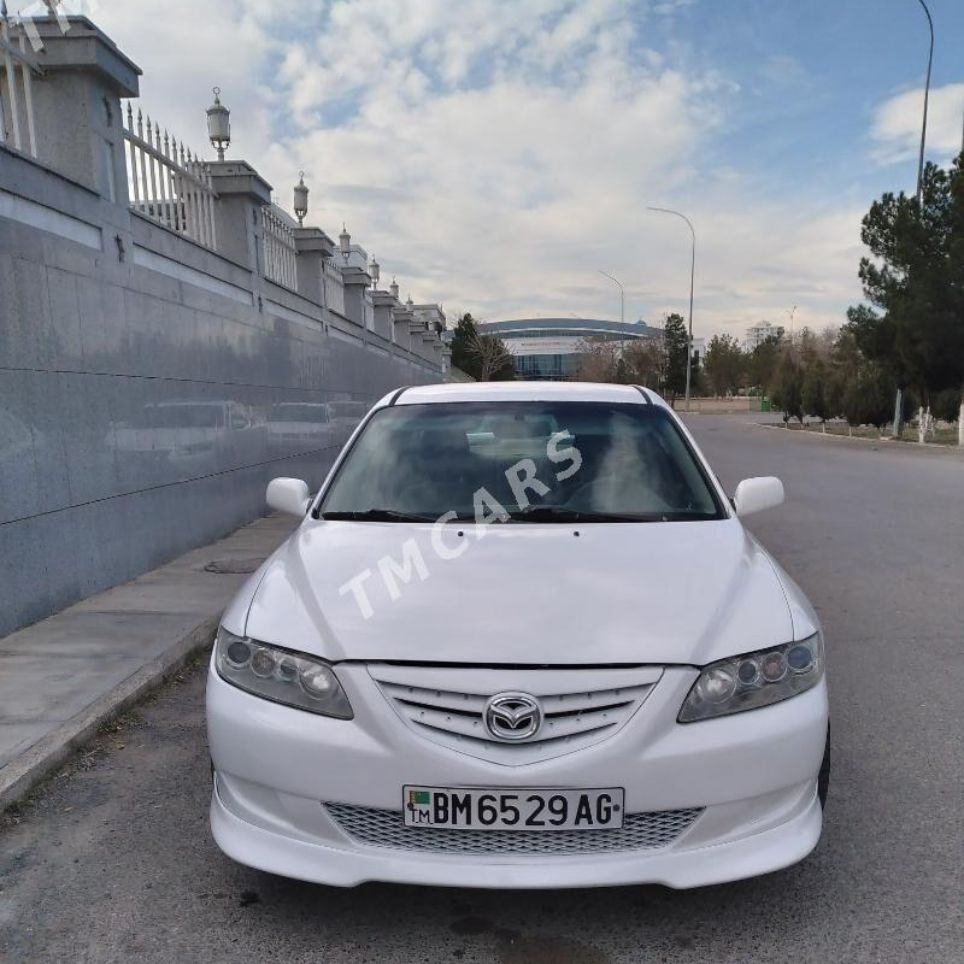license plate: (399, 781, 632, 836)
truck: (185, 381, 883, 920)
